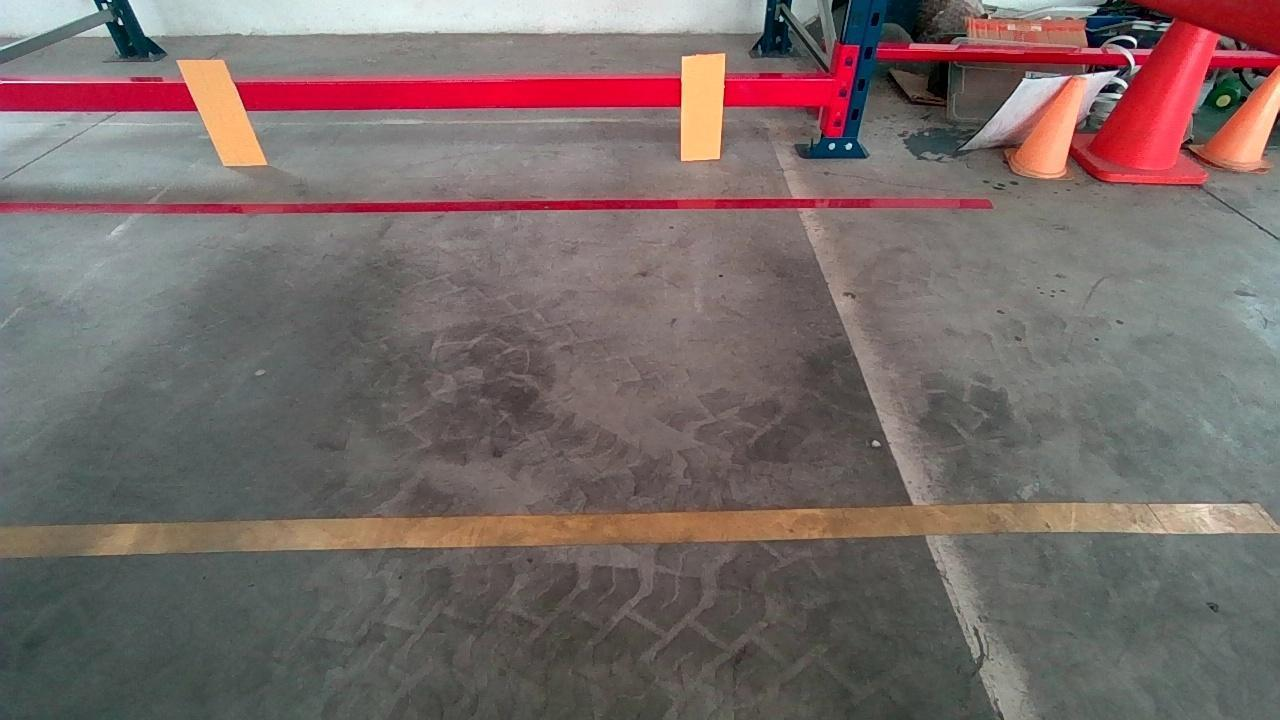h_rack: (3, 69, 828, 112)
orange_strip: (179, 59, 265, 164), (680, 55, 724, 158)
red_line: (9, 188, 994, 227)
